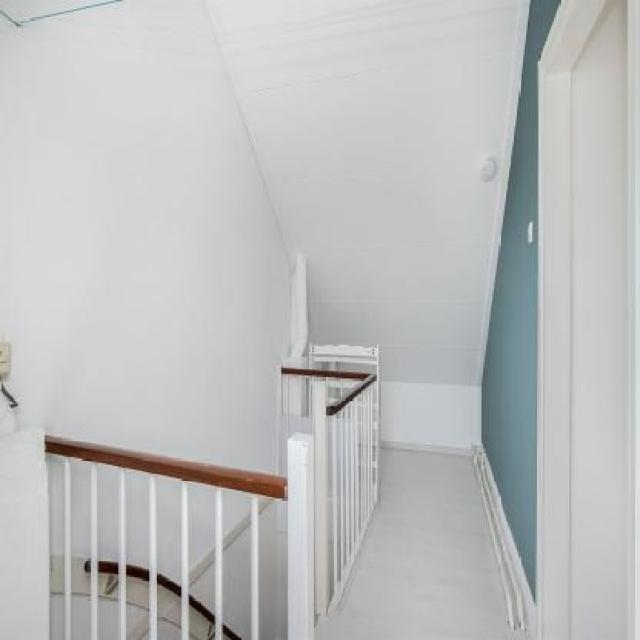floor: (326, 446, 522, 640)
